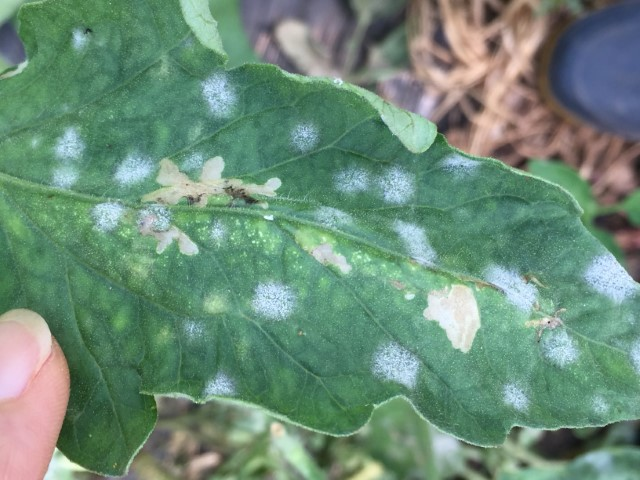oidio: (480, 261, 537, 323), (580, 250, 640, 307), (372, 341, 419, 391), (390, 218, 437, 267), (200, 72, 240, 123), (540, 324, 583, 371), (250, 280, 297, 322), (376, 164, 416, 207), (113, 151, 156, 189), (51, 124, 87, 162), (332, 165, 369, 199), (500, 381, 532, 418), (90, 199, 123, 234), (134, 203, 172, 233), (440, 151, 483, 177), (289, 120, 320, 156), (307, 205, 352, 229), (205, 370, 236, 398), (48, 164, 78, 188), (626, 334, 640, 374), (207, 218, 224, 246), (591, 391, 609, 417), (67, 27, 87, 50), (180, 153, 202, 172), (183, 318, 204, 337)
